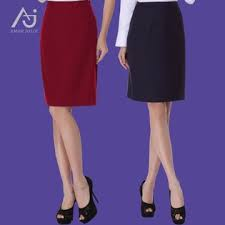F_tailored skirt: (121, 2, 196, 112)
